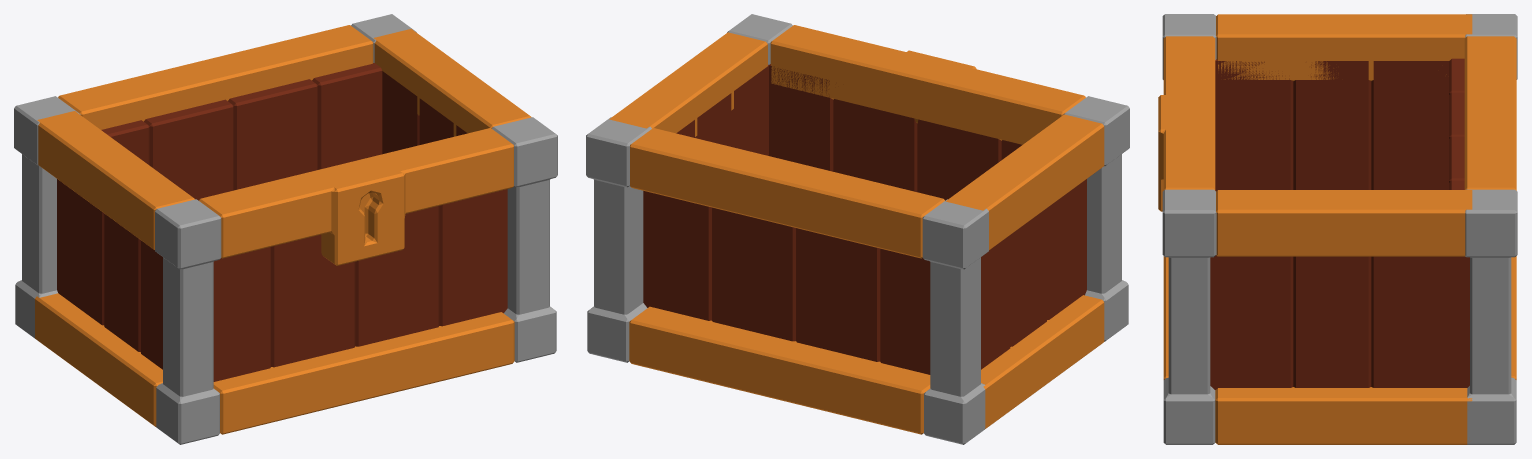
The model's file is Chest_Base.fbx.
3 renders of one model, left to right at view 1: azimuth 30°, elevation 25°; view 2: azimuth 150°, elevation 25°; view 3: azimuth 270°, elevation 25°, orthographic. The views are drawn at different scales.
Visible parts, largest first — view 1: Chest_Base; view 2: Chest_Base; view 3: Chest_Base.
Part boxes in pixels (bbox=[...]): Chest_Base: bbox=[14, 14, 557, 444]; Chest_Base: bbox=[586, 14, 1129, 444]; Chest_Base: bbox=[1158, 14, 1517, 444].
Bounding box in the file's own units: 90.4 × 50 × 69.2.
